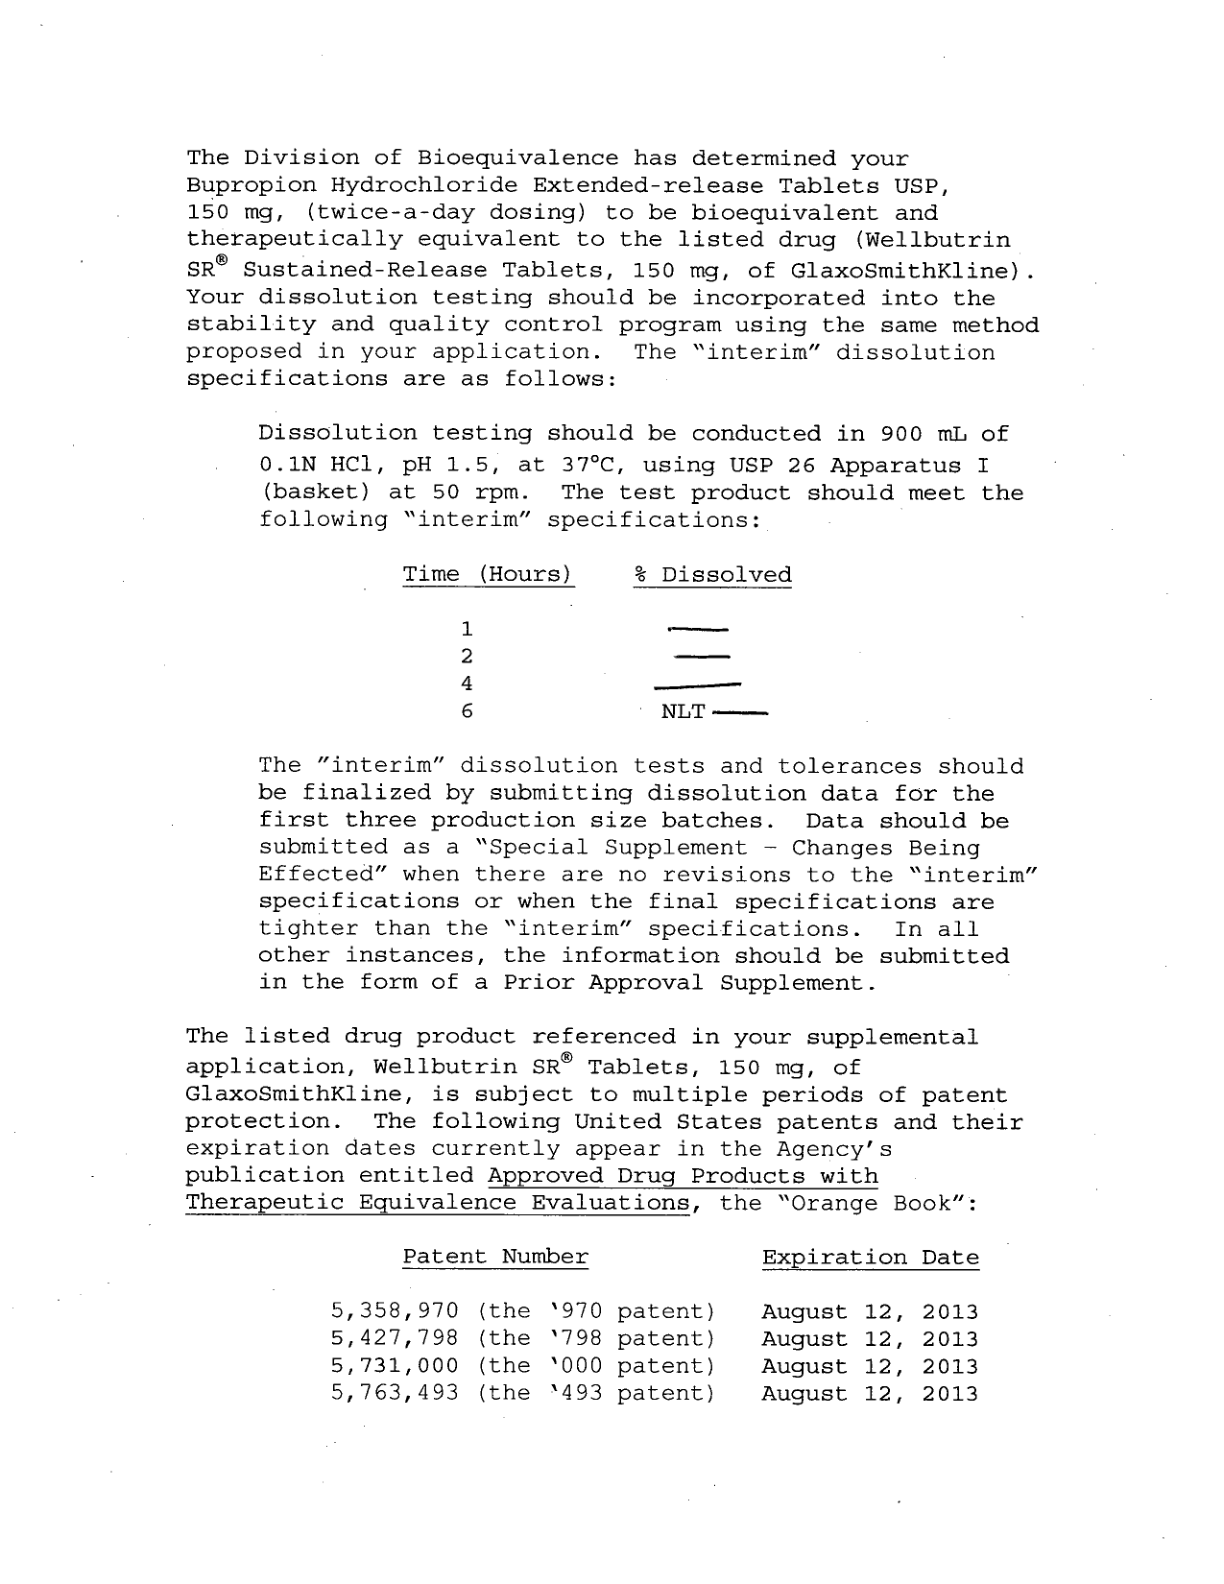nolines: (327, 1248, 984, 1404), (396, 559, 798, 726)
